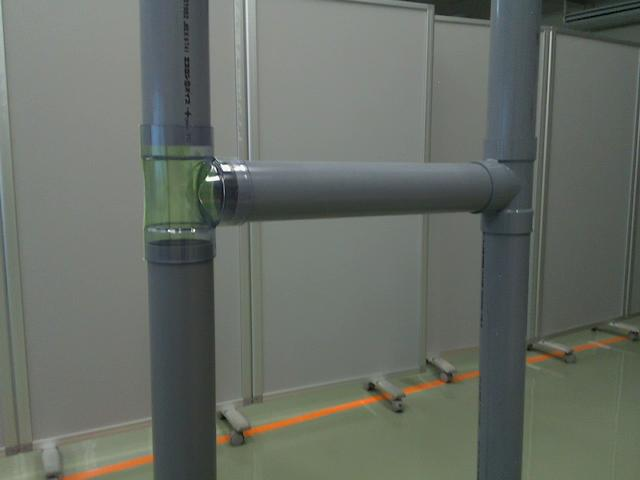junction: (143, 128, 250, 266), (467, 137, 536, 236)
